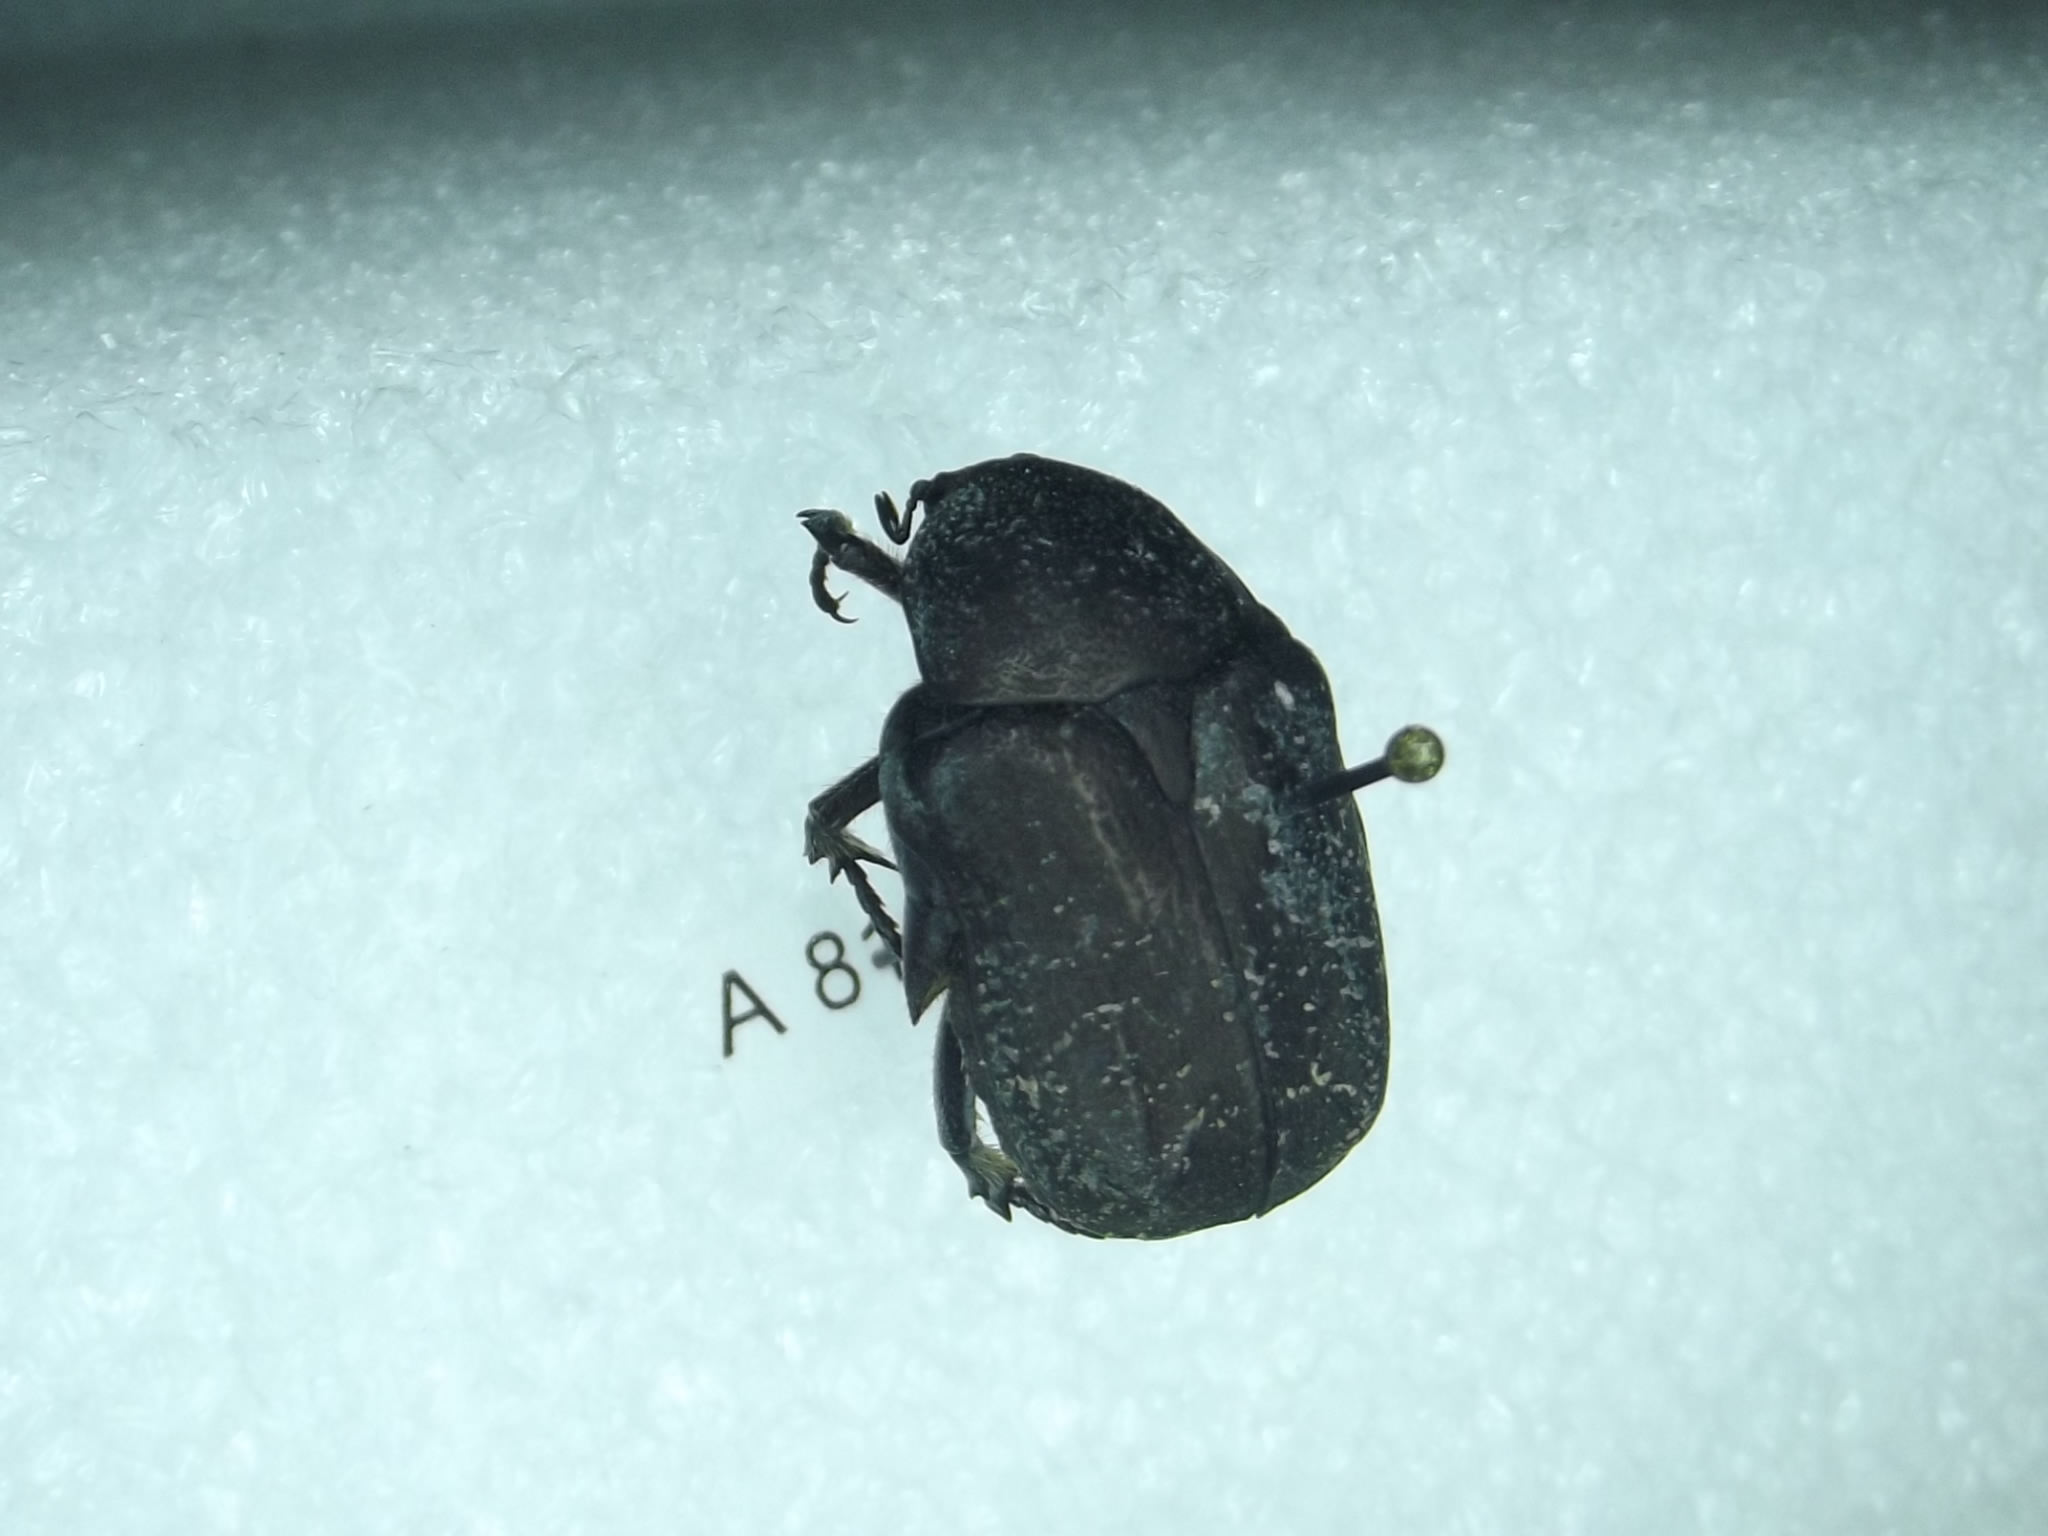Protaetia_asiatica: (789, 413, 1397, 1271)
